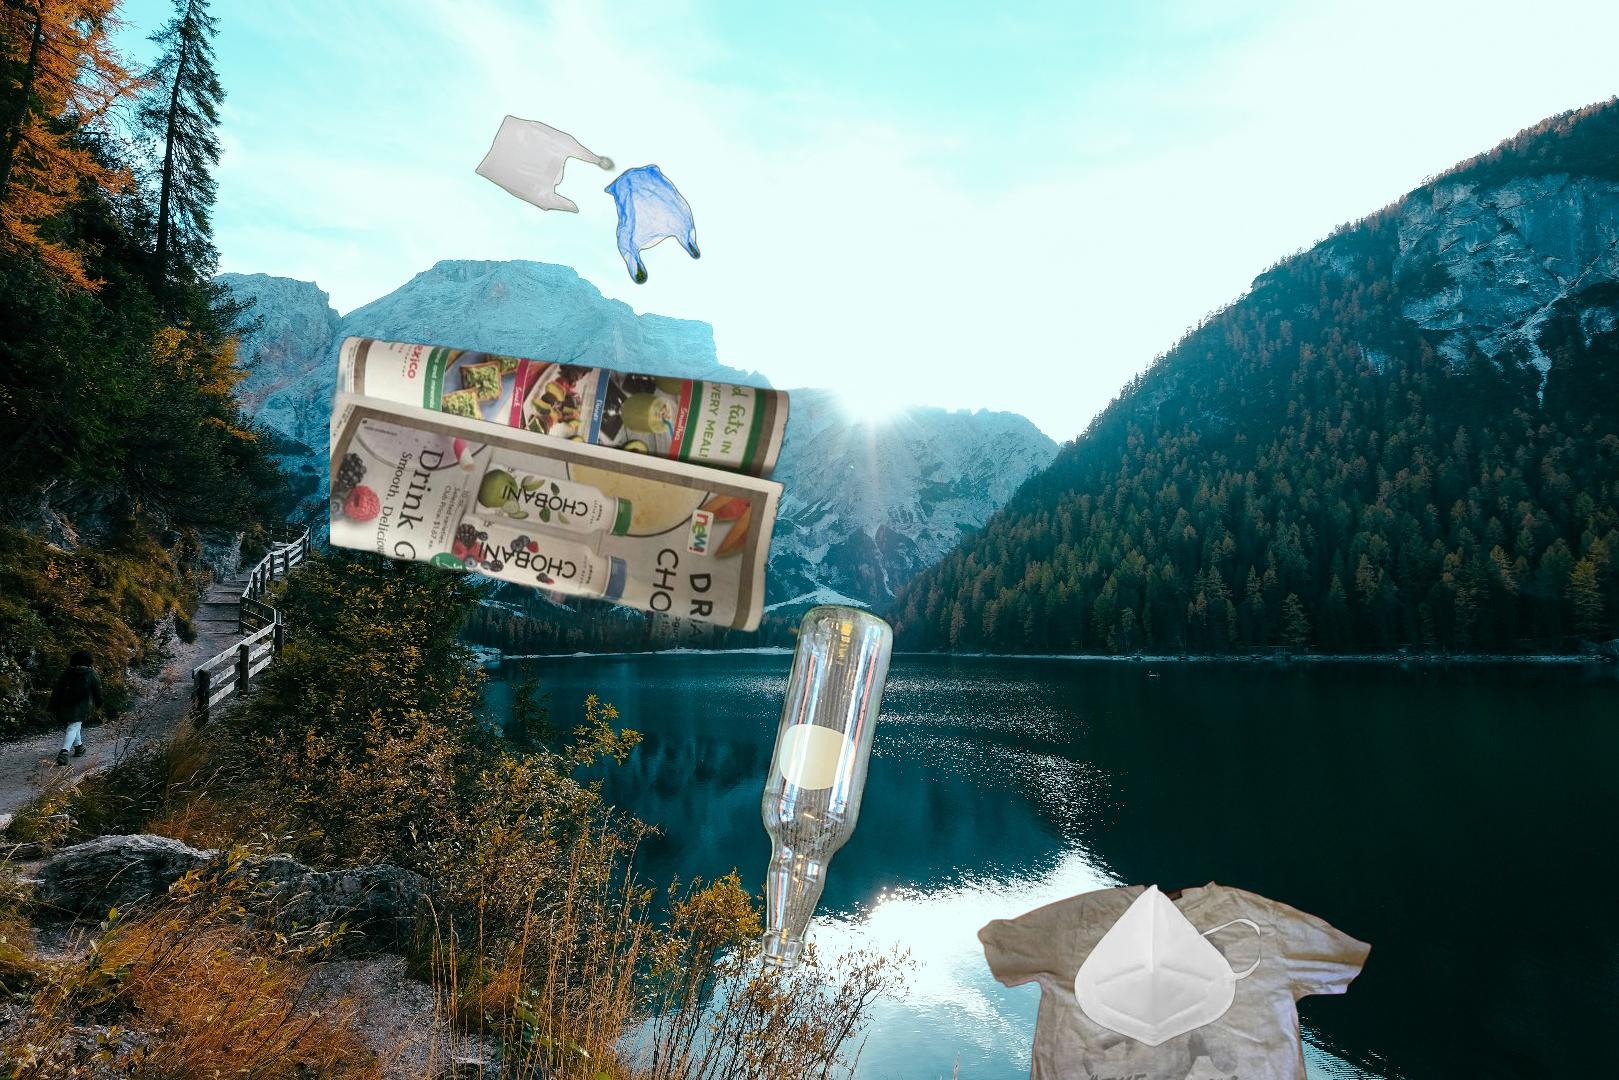clothes: (973, 808, 1429, 1080)
glass: (755, 598, 898, 975)
paper: (330, 334, 794, 652)
plastic-bag: (473, 112, 702, 286)
trash: (1043, 881, 1265, 1050)
